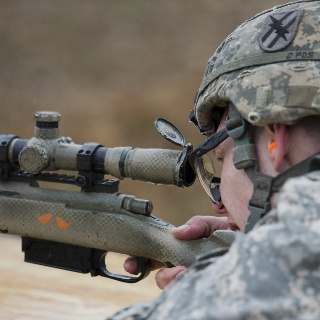rifle: (1, 108, 240, 280)
